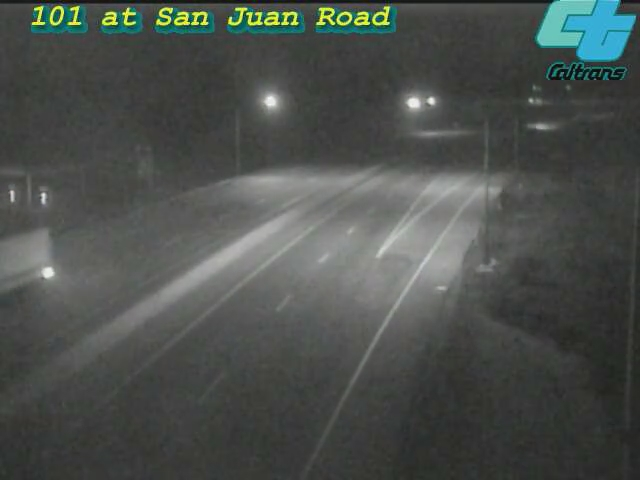vehicle: (1, 232, 46, 312), (519, 102, 569, 152)
